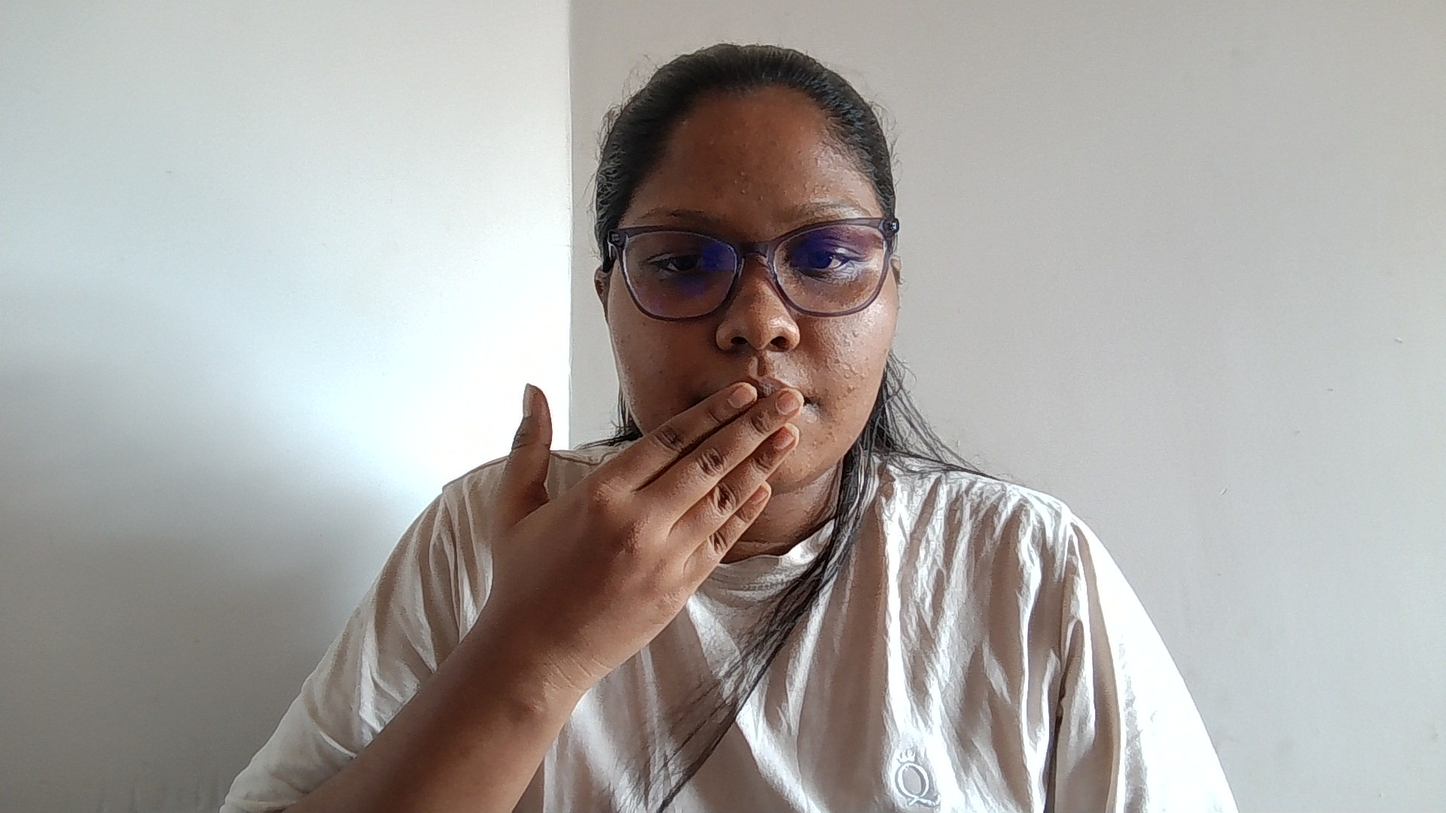Thank You: (429, 358, 826, 696)
